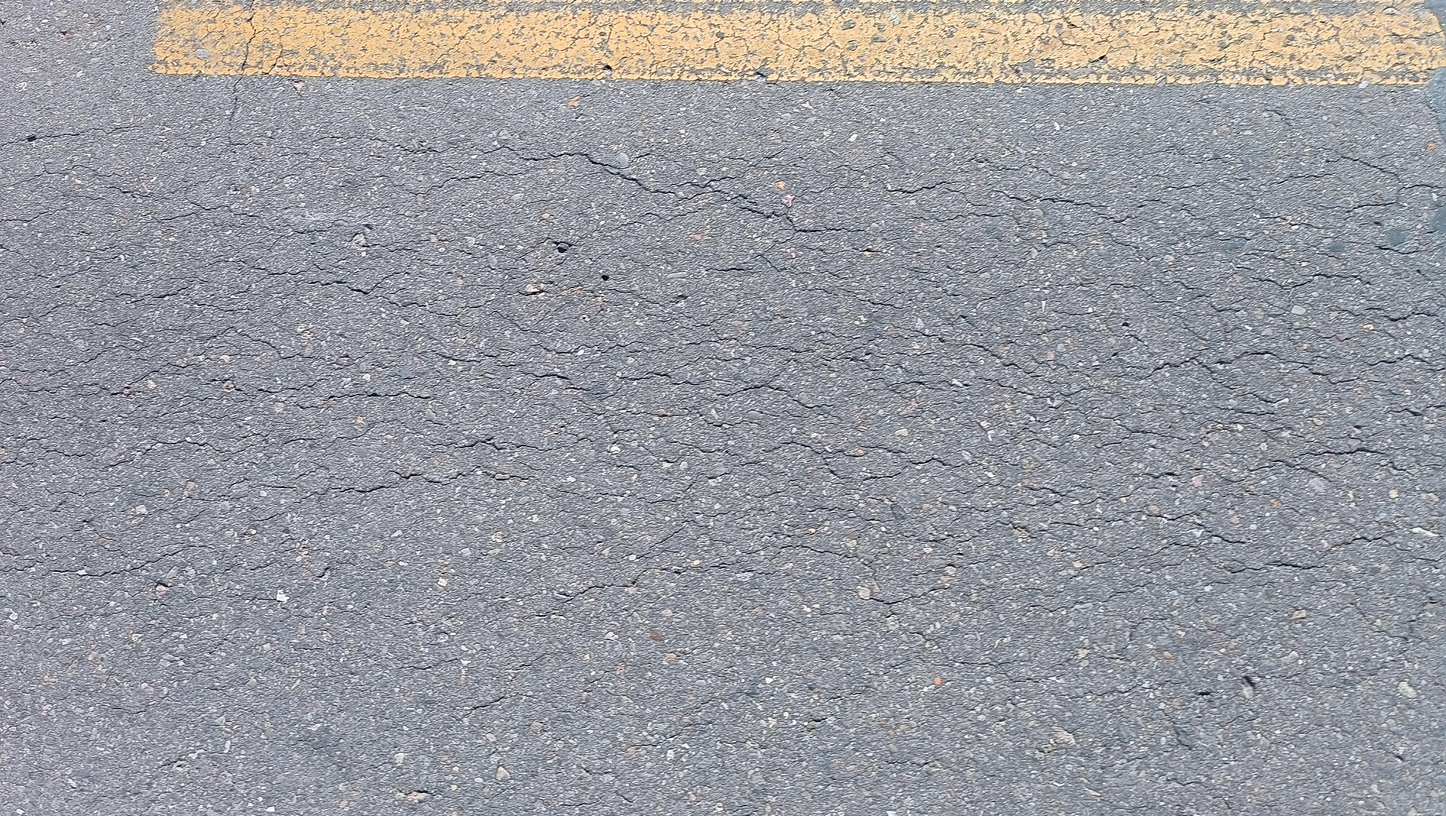PIEL DE COCODRILO: (0, 114, 1446, 816)
